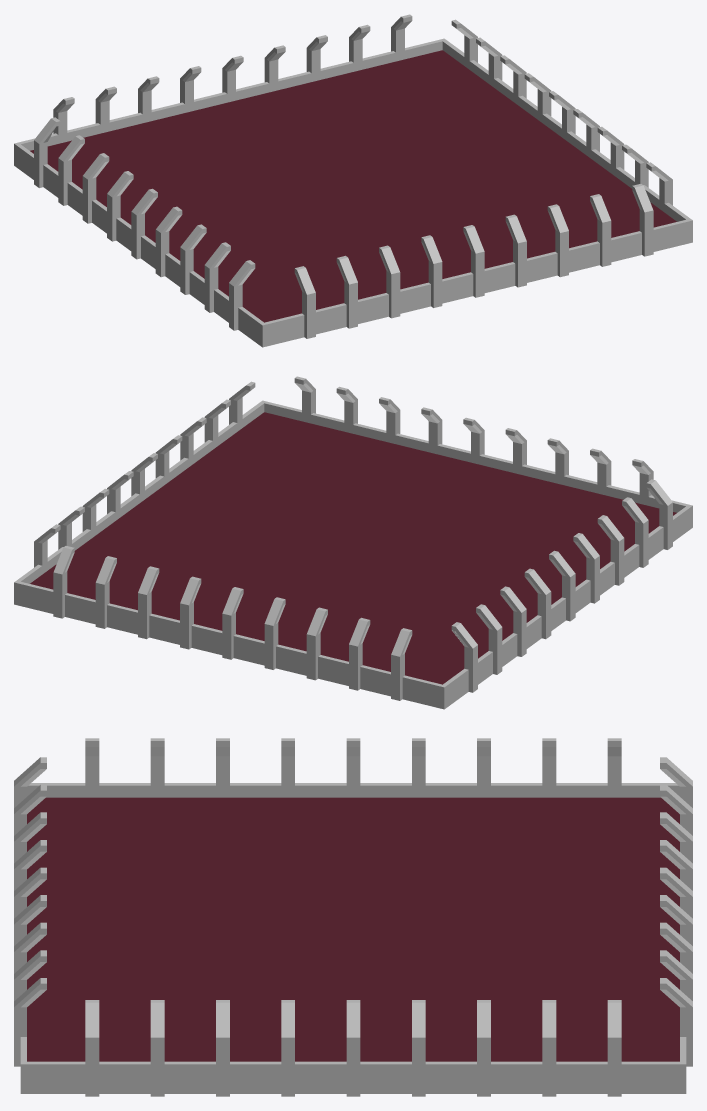
File: environment.fbx
3 renders of one model, top to bottom at view 1: azimuth 30°, elevation 25°; view 2: azimuth 150°, elevation 25°; view 3: azimuth 270°, elevation 25°, orthographic. The views are drawn at different scales.
Parts seen in each view (by area): view 1: Cube; view 2: Cube; view 3: Cube.
Part boxes in pixels (x1,y1,x2,y2): Cube: (14, 14, 692, 347); Cube: (14, 376, 692, 709); Cube: (14, 738, 692, 1096).
Size of the model in its own units: 10400 by 1400 by 10400.
